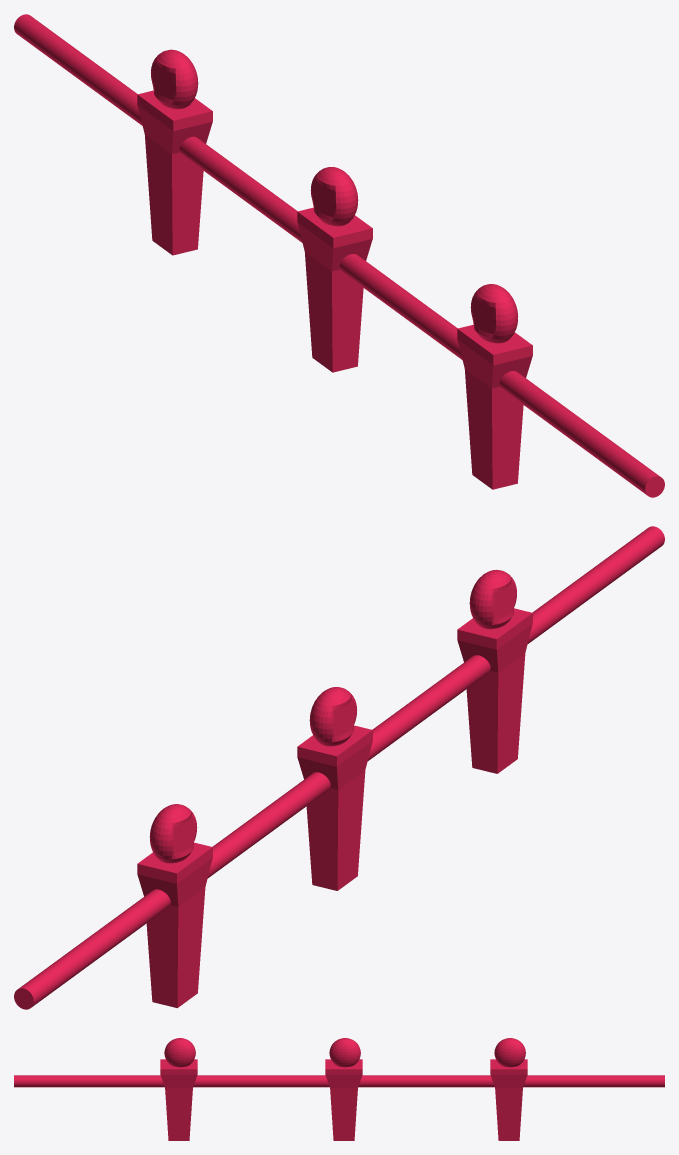
The model's file is Player_B4.glb.
3 renders of one model, top to bottom at view 1: azimuth 30°, elevation 25°; view 2: azimuth 150°, elevation 25°; view 3: azimuth 270°, elevation 25°, orthographic. The views are drawn at different scales.
Visible parts, largest first — view 1: Player_B4; view 2: Player_B4; view 3: Player_B4.
Boxes of the visible parts, left/top/right/bottom form: Player_B4: left=14, top=14, right=664, bottom=497; Player_B4: left=14, top=526, right=664, bottom=1009; Player_B4: left=14, top=1038, right=664, bottom=1140.
Size of the model in its own units: 1.57 by 7.28 by 43.39.
